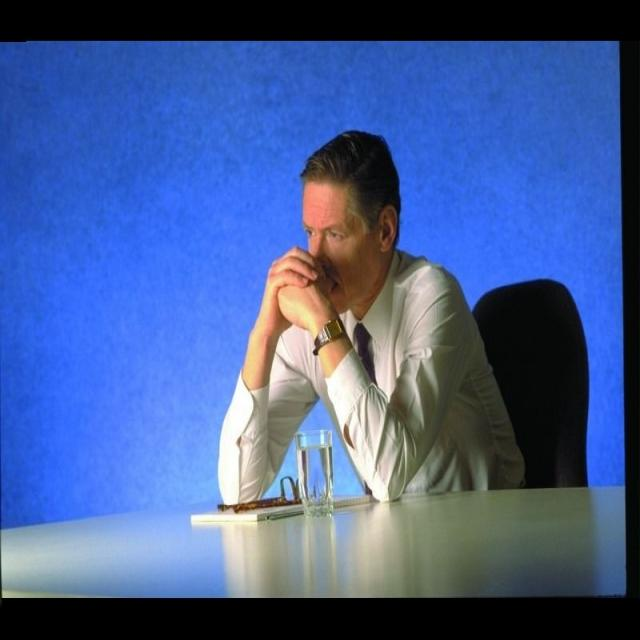nomask: (303, 185, 367, 310)
